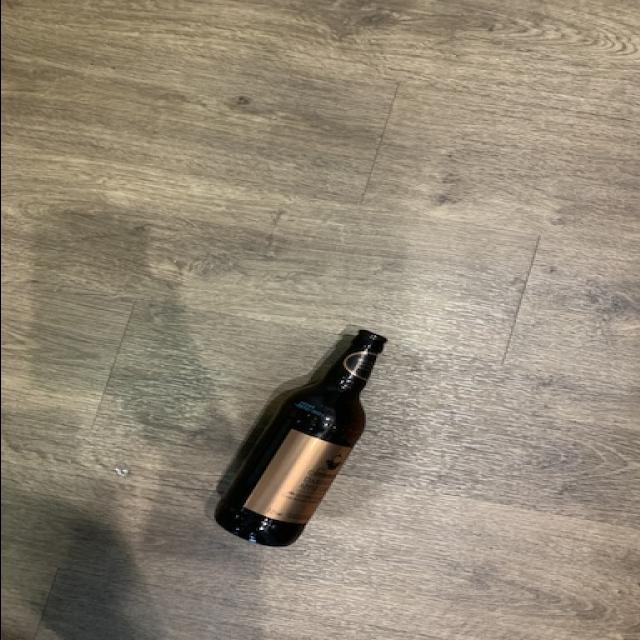Glass Bottle: (213, 324, 390, 555)
